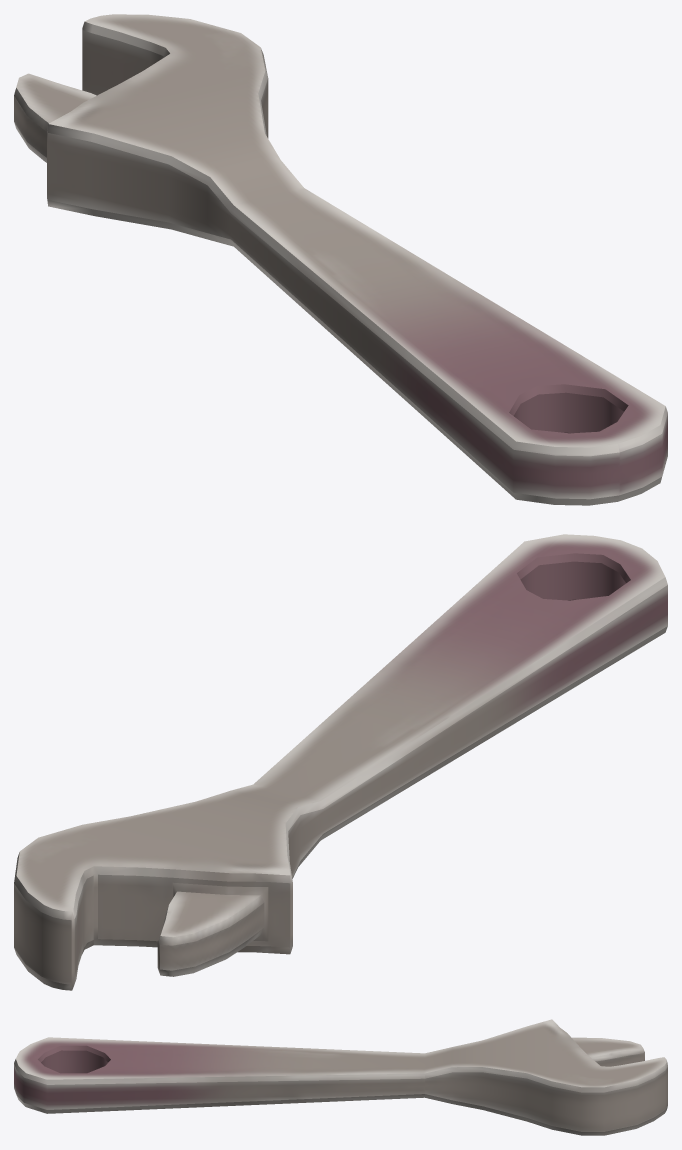
Rendered from wrench.gltf.
3 renders of one model, top to bottom at view 1: azimuth 30°, elevation 25°; view 2: azimuth 150°, elevation 25°; view 3: azimuth 270°, elevation 25°, orthographic. The views are drawn at different scales.
Visible parts, largest first — view 1: wrench; view 2: wrench; view 3: wrench.
Boxes of the visible parts, x1,y1,x2,y2 form: wrench: (14, 14, 667, 505); wrench: (14, 534, 667, 990); wrench: (14, 1019, 667, 1135).
Size of the model in its own units: 0.1917 by 0.0625 by 0.7661.
1 material, 1 textured.
